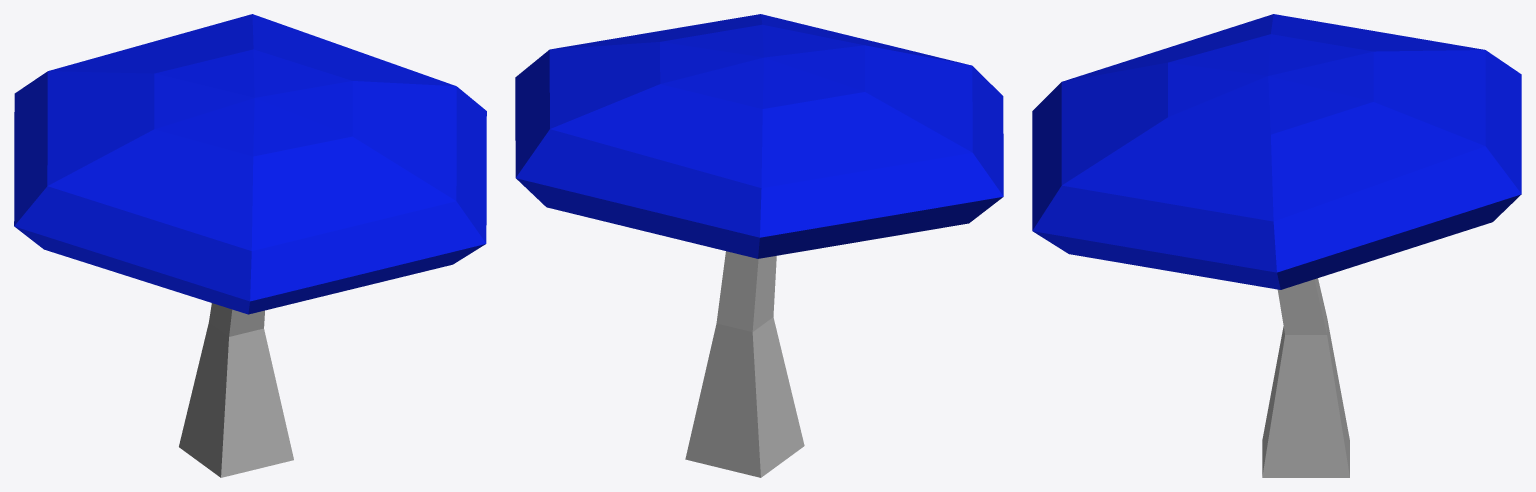
The model's file is Mushroom_Blue_ThinUV.fbx.
3 views of the same model, side by side, from view 1: azimuth 30°, elevation 25°; view 2: azimuth 150°, elevation 25°; view 3: azimuth 270°, elevation 25° (orthographic). The views are drawn at different scales.
Visible parts, largest first — view 1: Cube; view 2: Cube; view 3: Cube.
Boxes of the visible parts, x1,y1,x2,y2 form: Cube: [14, 14, 486, 477]; Cube: [515, 14, 1003, 477]; Cube: [1032, 14, 1521, 477].
Bounding box in the file's own units: 51.84 × 38.67 × 44.74.
